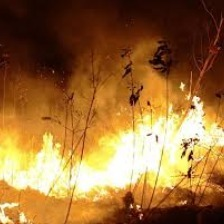incendio: (1, 86, 220, 197)
